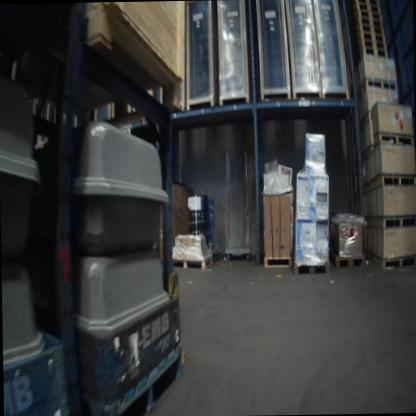pallet: (95, 336, 187, 416), (171, 251, 213, 270), (330, 251, 365, 269), (381, 171, 416, 188), (294, 260, 330, 276), (378, 131, 414, 146), (381, 254, 416, 269), (365, 75, 397, 91), (382, 214, 416, 229), (361, 47, 388, 59), (359, 31, 385, 42), (358, 16, 384, 27), (355, 3, 382, 13), (357, 9, 383, 19), (360, 39, 386, 48), (359, 24, 384, 33), (354, 0, 380, 5)
